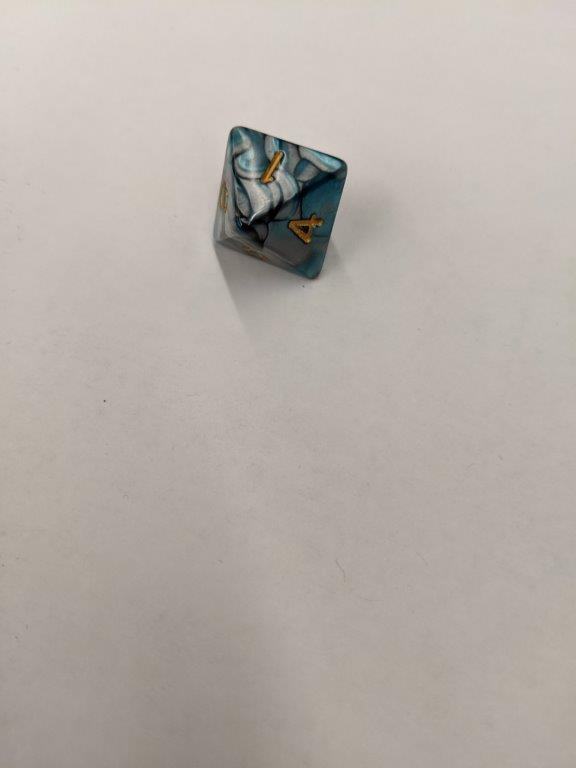d8-1: (210, 122, 349, 282)
